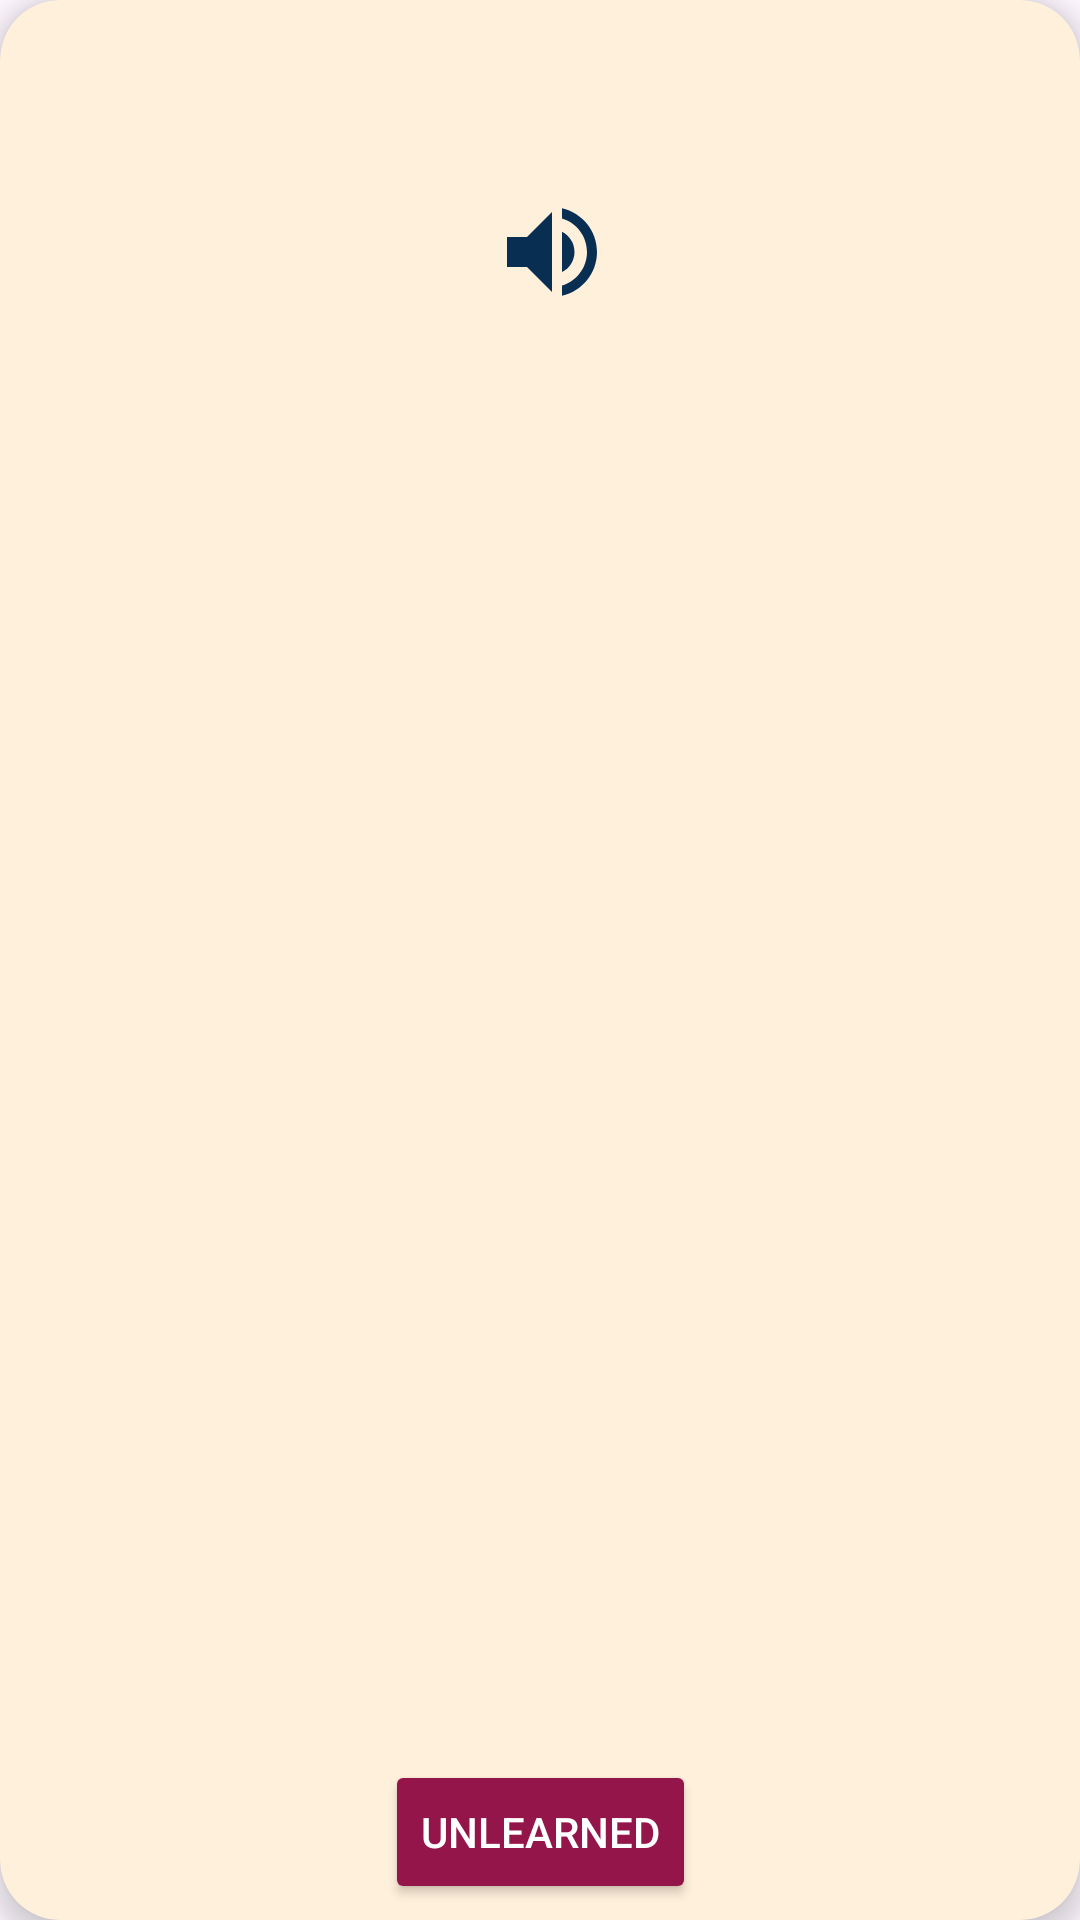

Point at icon controls on the screen. Image size 1080w x 1920h, points as point (x, y).
volume: point (552, 252)
